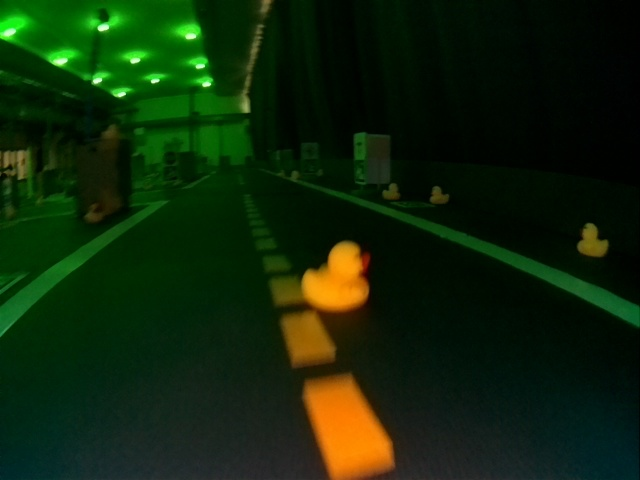Duckie: (303, 243, 370, 311), (578, 224, 605, 255), (431, 186, 449, 203), (86, 203, 103, 220), (383, 184, 398, 200), (102, 126, 115, 138)
QR code: (392, 200, 433, 209), (354, 163, 365, 183)
